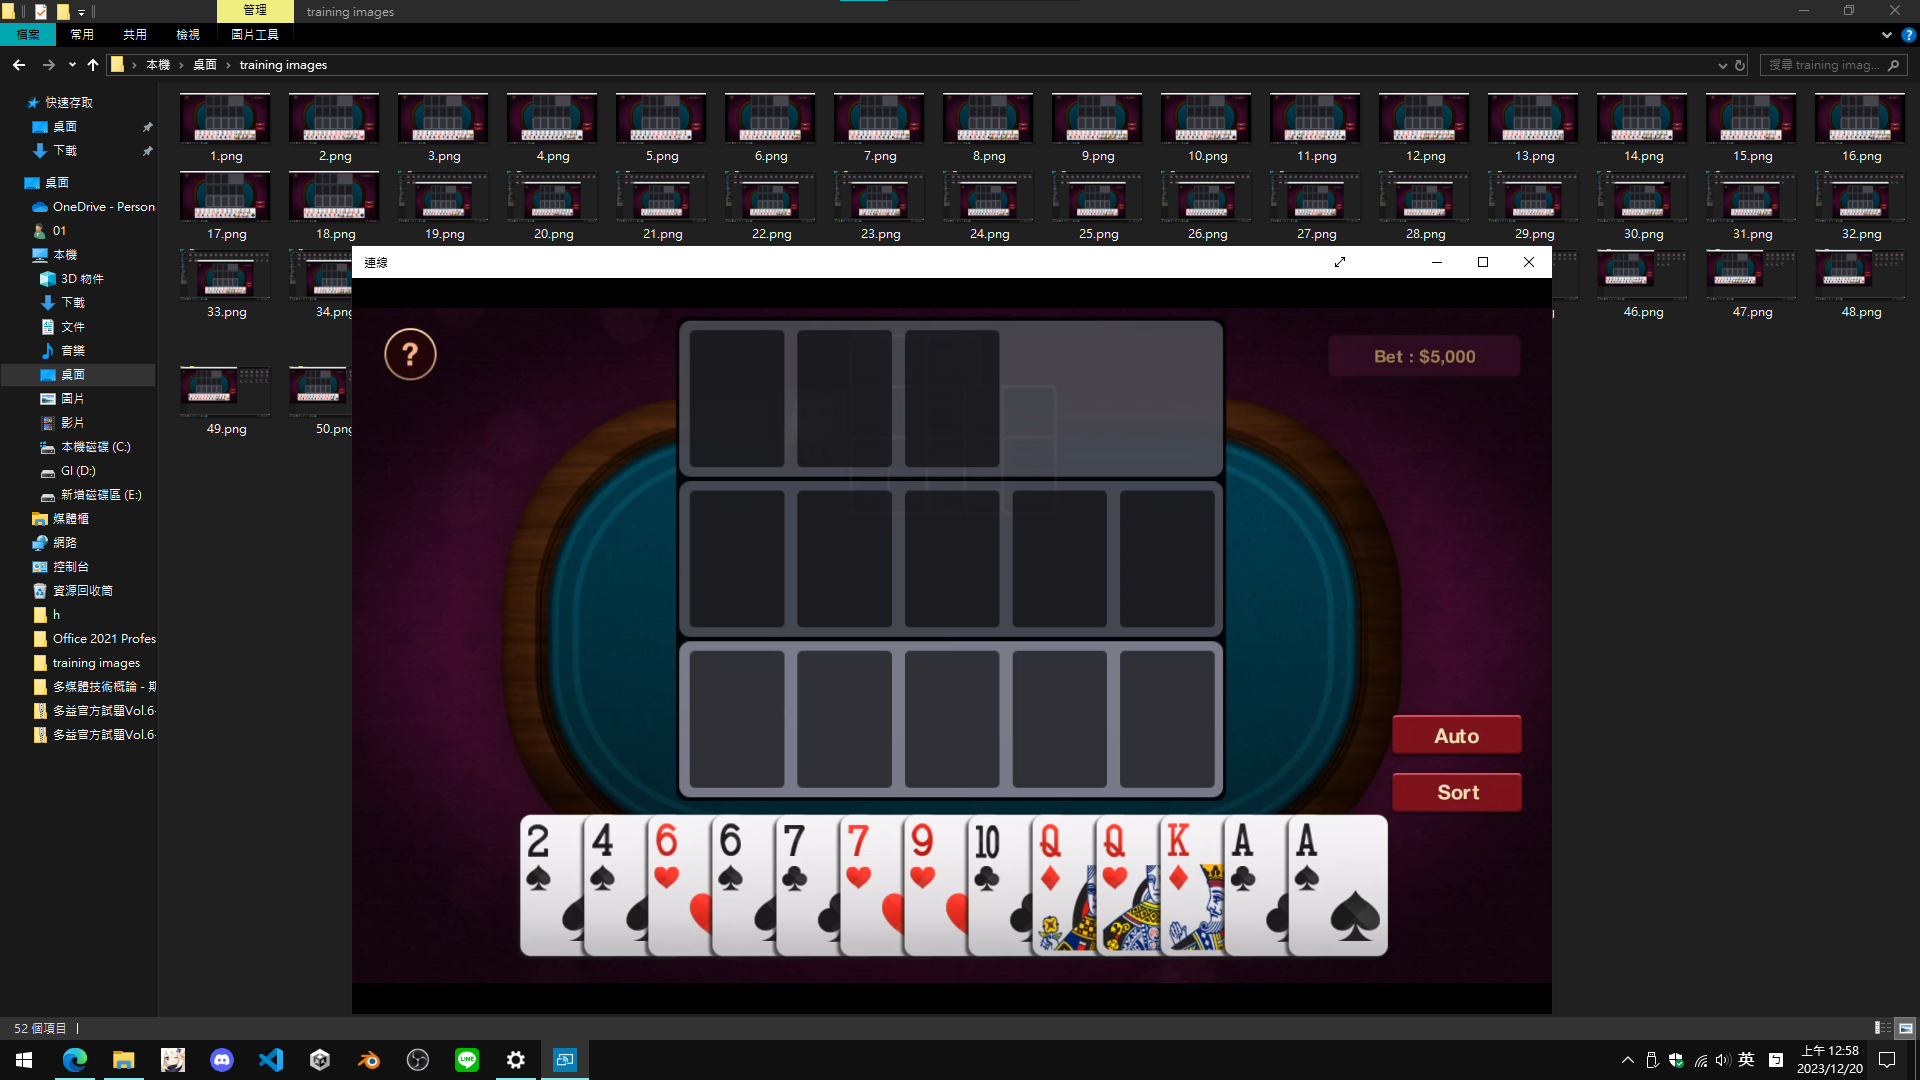10C: (973, 819, 1002, 898)
2S: (525, 822, 554, 895)
4S: (588, 822, 617, 891)
6H: (651, 820, 683, 891)
6S: (717, 819, 744, 895)
7C: (781, 820, 810, 894)
7H: (845, 822, 873, 890)
9H: (909, 820, 938, 898)
AC: (1228, 819, 1259, 897)
AS: (1292, 819, 1324, 895)
KD: (1166, 818, 1192, 895)
QD: (1036, 819, 1065, 894)
QH: (1101, 820, 1131, 895)
